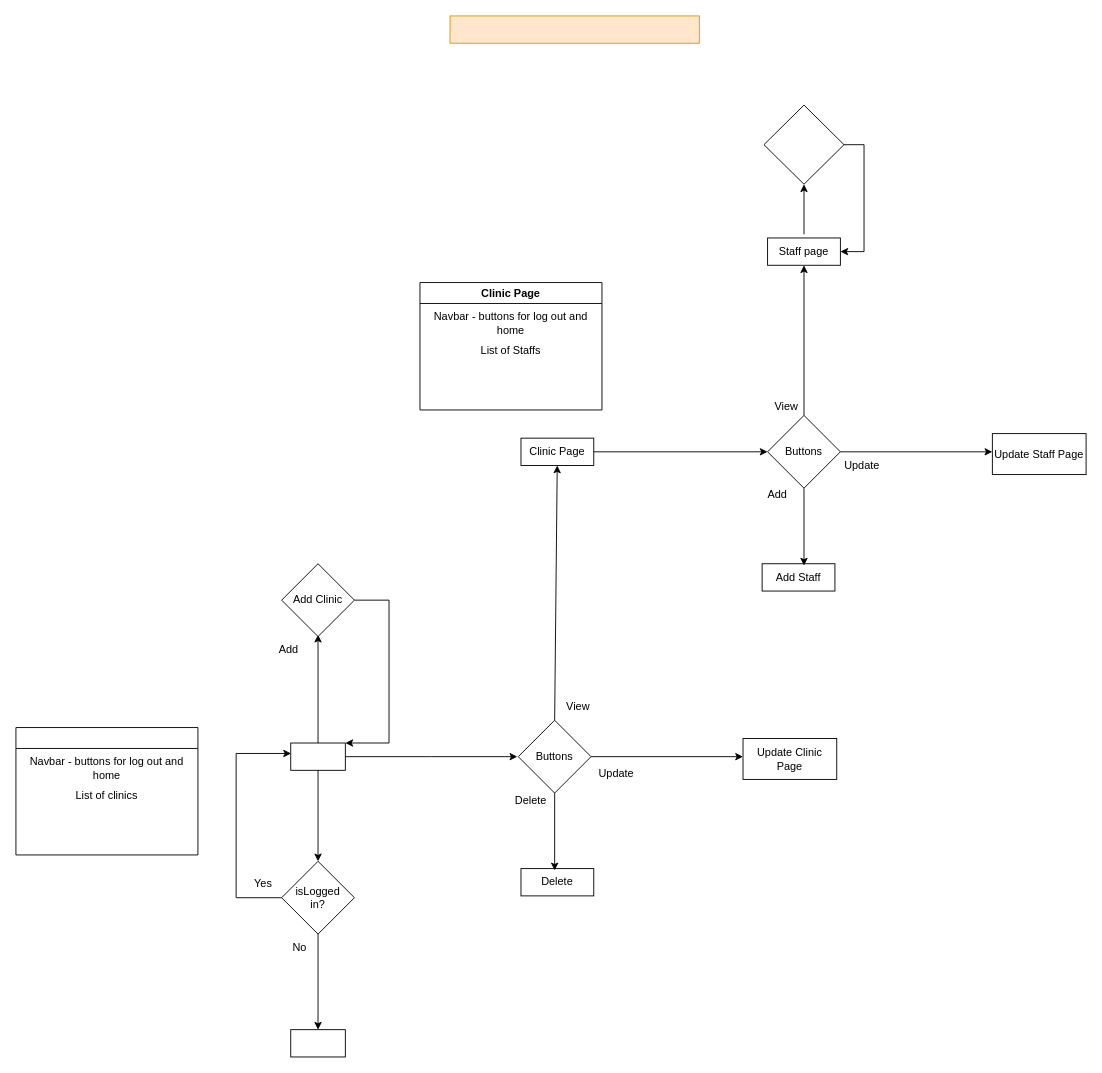
This 1102x1073 diagram has some shape labels left out. Each missing label, with the box of its shape:
Change Shift: (763, 104, 844, 184)
Home: (290, 742, 345, 770)
Home Page: (15, 727, 198, 855)
Login Page: (290, 1029, 345, 1057)
UI Flow Diagram: (449, 15, 699, 43)
